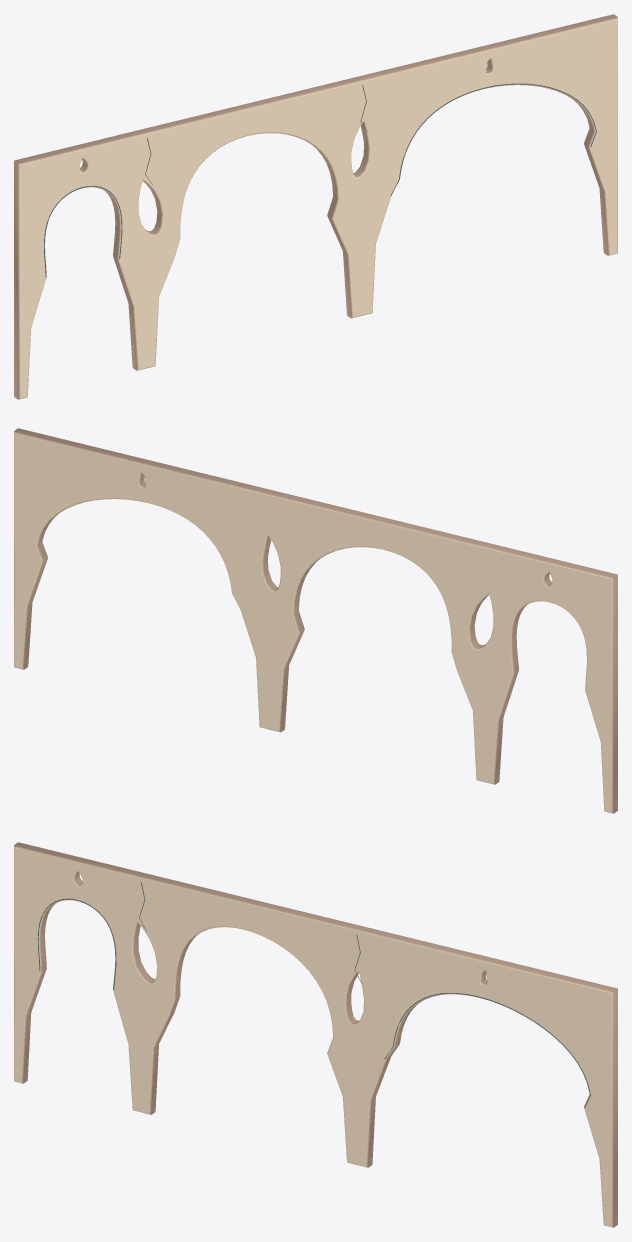
Rendered from storey-facade-a-v3.glb.
3 renders of one model, top to bottom at view 1: azimuth 30°, elevation 25°; view 2: azimuth 150°, elevation 25°; view 3: azimuth 330°, elevation 25°, orthographic.
Visible parts, largest first — view 1: TG03_FACADE_A_V3; view 2: TG03_FACADE_A_V3; view 3: TG03_FACADE_A_V3.
Boxes of the visible parts, x1,y1,x2,y2 form: TG03_FACADE_A_V3: [14, 14, 617, 399]; TG03_FACADE_A_V3: [14, 428, 617, 813]; TG03_FACADE_A_V3: [14, 842, 617, 1227].
Size of the model in its own units: 19.21 by 7.23 by 0.335.
